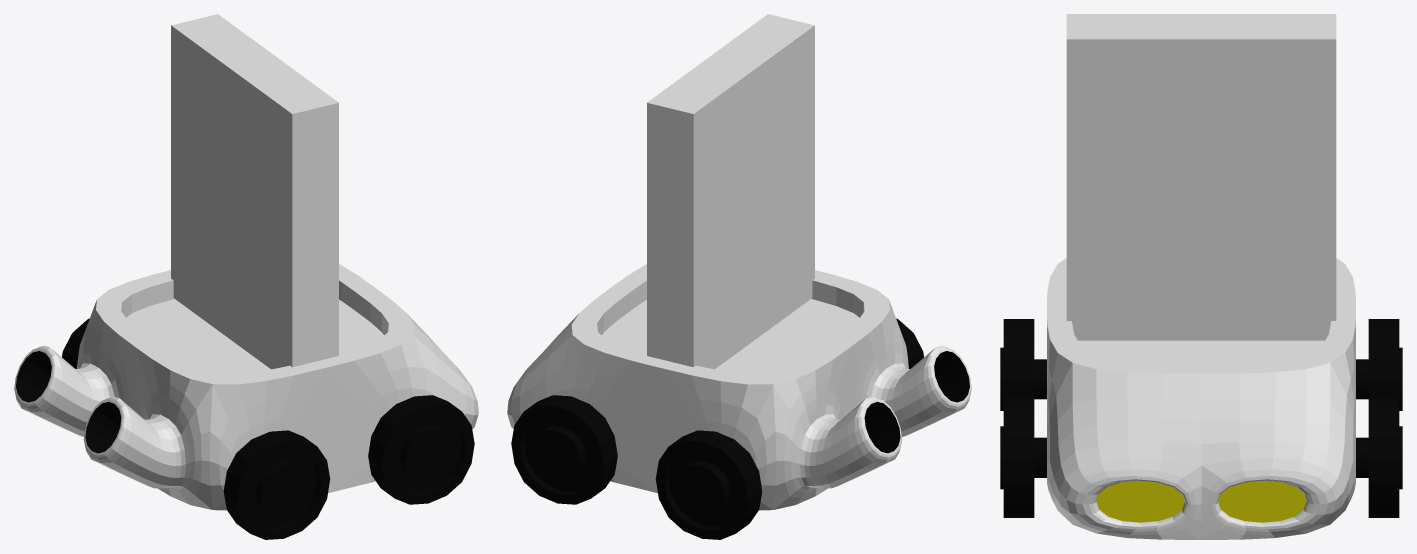
Rendered from letter container.fbx.
3 renders of one model, left to right at view 1: azimuth 30°, elevation 25°; view 2: azimuth 150°, elevation 25°; view 3: azimuth 270°, elevation 25°, orthographic. The views are drawn at different scales.
Parts seen in each view (by area): view 1: Cube.005; view 2: Cube.005; view 3: Cube.005.
Boxes of the visible parts, left/top/right/bottom form: Cube.005: left=14, top=14, right=478, bottom=539; Cube.005: left=507, top=14, right=971, bottom=539; Cube.005: left=1000, top=14, right=1402, bottom=539.
Bounding box in the file's own units: 764 × 784 × 650.
